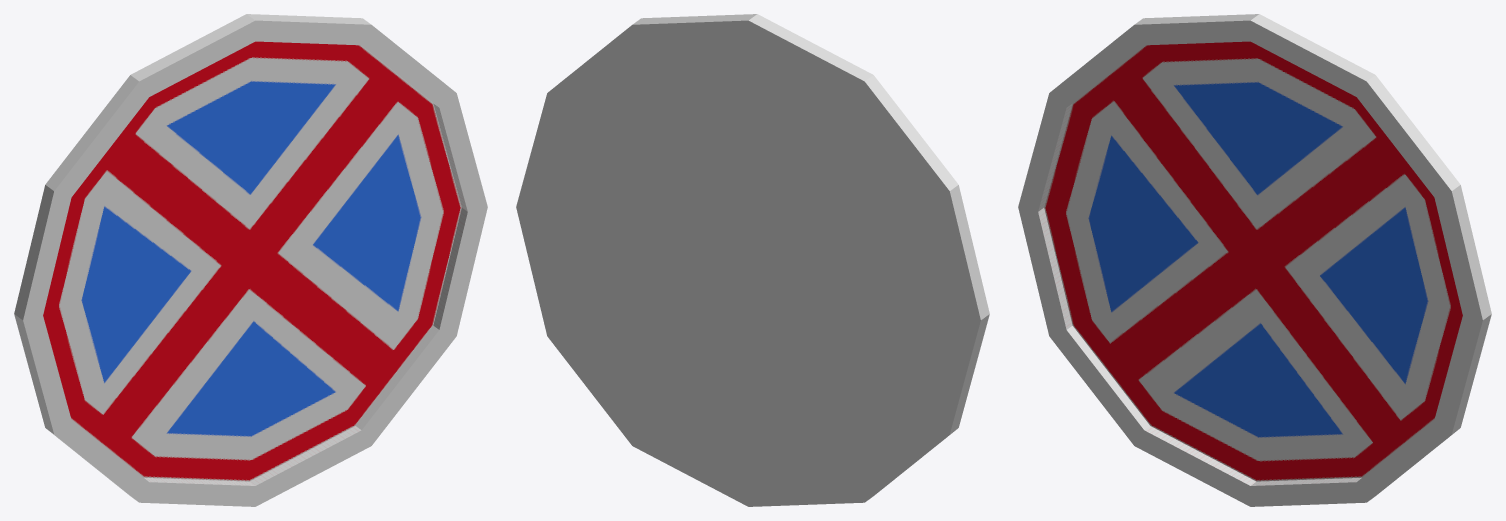
Rendered from SignNoStop.fbx.
The picture shows the model from 3 angles, left to right: view 1: azimuth 30°, elevation 25°; view 2: azimuth 150°, elevation 25°; view 3: azimuth 330°, elevation 25°; orthographic projection.
Visible parts, largest first — view 1: SignNoStop; view 2: SignNoStop; view 3: SignNoStop.
Part boxes in pixels (x1,y1,x2,y2): SignNoStop: (14, 14, 487, 506); SignNoStop: (516, 14, 989, 506); SignNoStop: (1018, 14, 1491, 506).
Bounding box in the file's own units: 0.7139 × 0.7139 × 0.0239.
